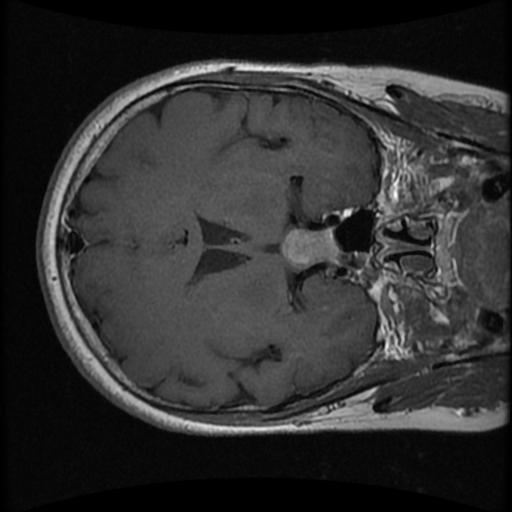pituitary tumour: (280, 227, 338, 273)
